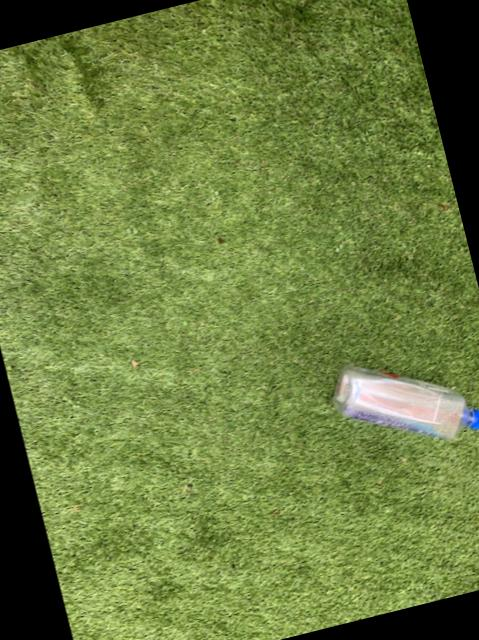plastic: (334, 364, 479, 438)
